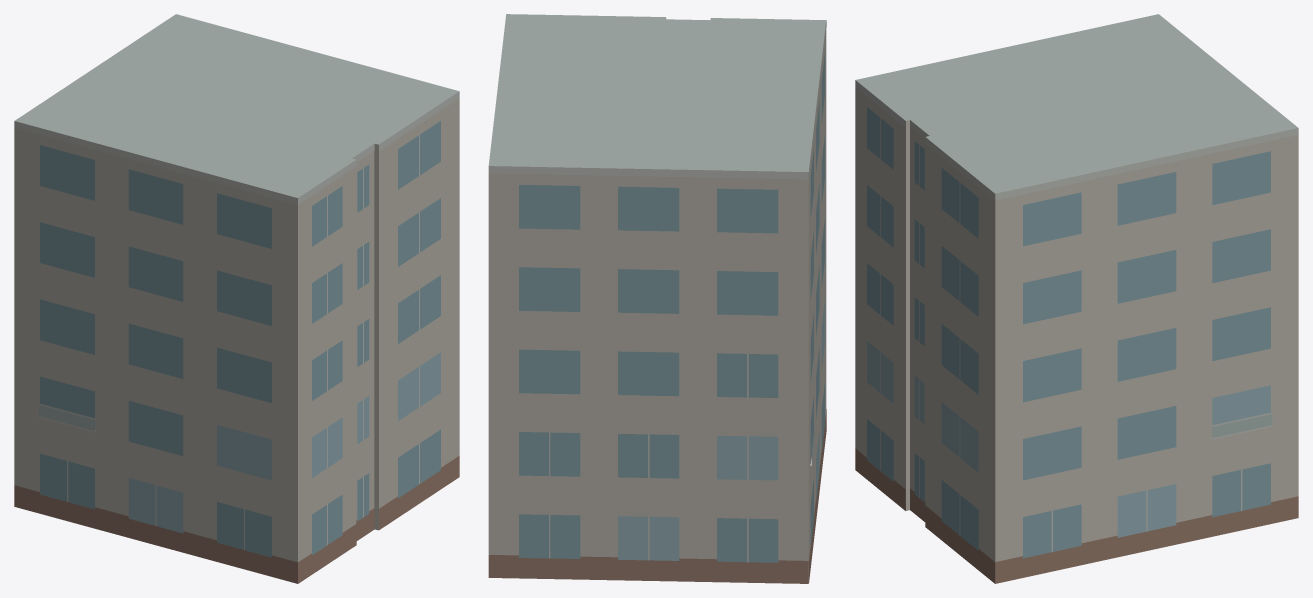
Rendered from survey-upis-32967193.glb.
3 renders of one model, left to right at view 1: azimuth 30°, elevation 25°; view 2: azimuth 150°, elevation 25°; view 3: azimuth 270°, elevation 25°, orthographic. The views are drawn at different scales.
Visible parts, largest first — view 1: survey-upis-32967193.tmp; view 2: survey-upis-32967193.tmp; view 3: survey-upis-32967193.tmp.
Boxes of the visible parts, <box> form: survey-upis-32967193.tmp: <box>14,14,459,583</box>; survey-upis-32967193.tmp: <box>488,14,826,583</box>; survey-upis-32967193.tmp: <box>855,14,1298,583</box>.
Size of the model in its own units: 13.7 by 13.85 by 14.27.
